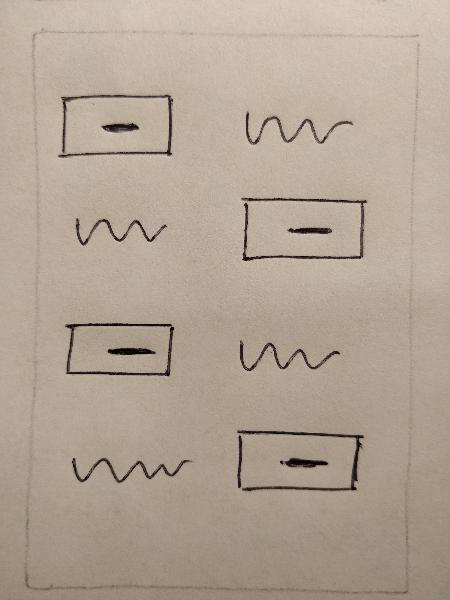button: (228, 421, 370, 502), (234, 188, 373, 267), (56, 87, 182, 164), (59, 315, 184, 385)
text: (230, 99, 358, 162), (228, 324, 345, 392), (63, 438, 198, 495), (69, 206, 173, 256)
